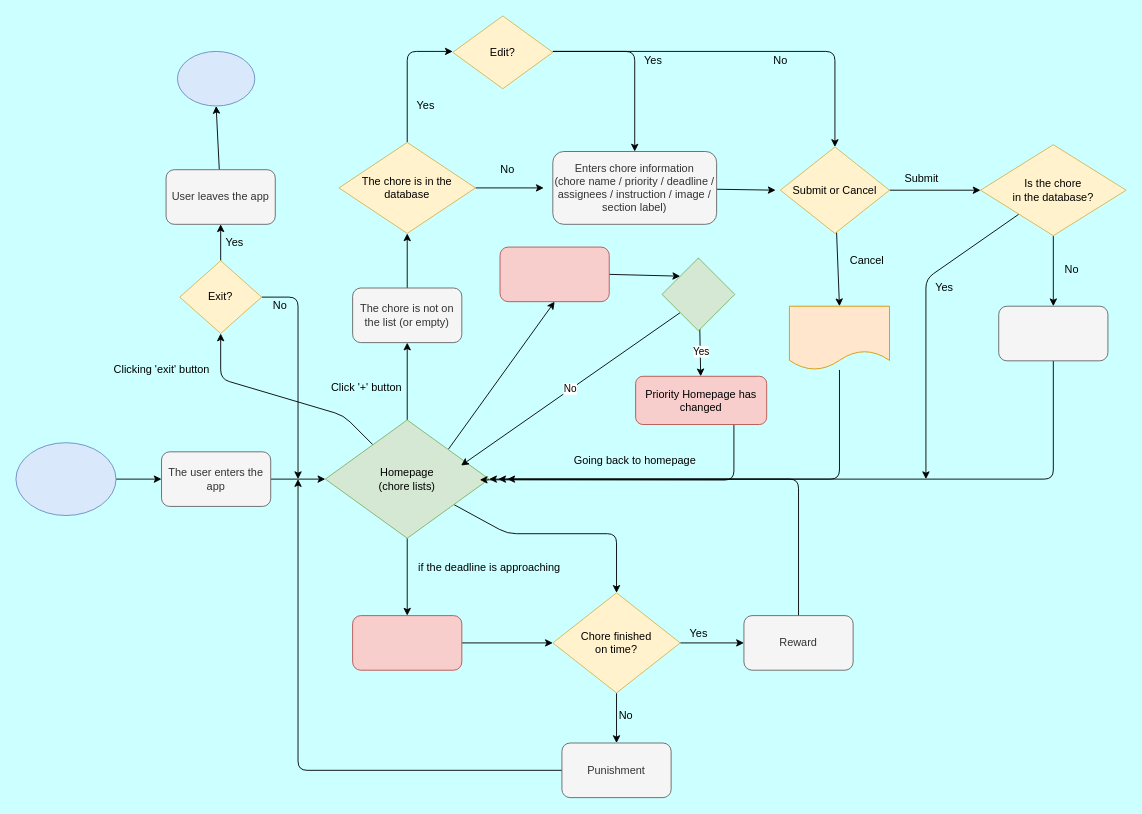
Some shapes in this 1142 by 814 pixel diagram are drawn without their labels. The centre of each missing label's shape, as x and y in pixels:
Added to database: the point at 1053,333
Change Priority?: the point at 698,294
End: the point at 216,78
Priority Settings: the point at 554,274
Really want to cancel?: the point at 839,337
Start: the point at 65,479
Warning: the point at 407,642
